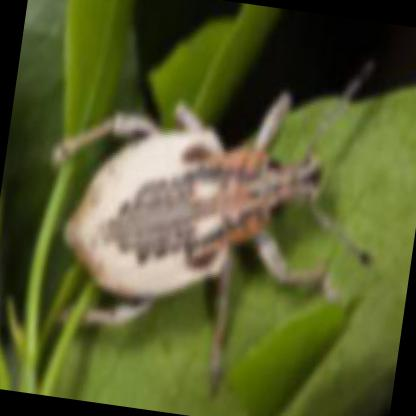ash weevil: (51, 93, 350, 395)
